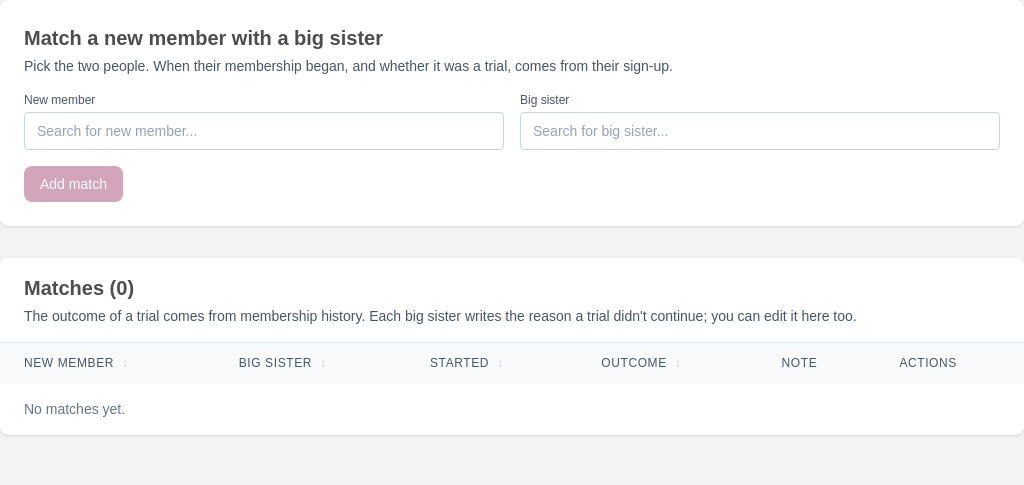
Test case: MatchesPanel › shows the error when the action refuses
Type "Ada" into the dropdown with placeholder "Search for big sister..." at {"x": 760, "y": 131}, box [520,112,1000,150]
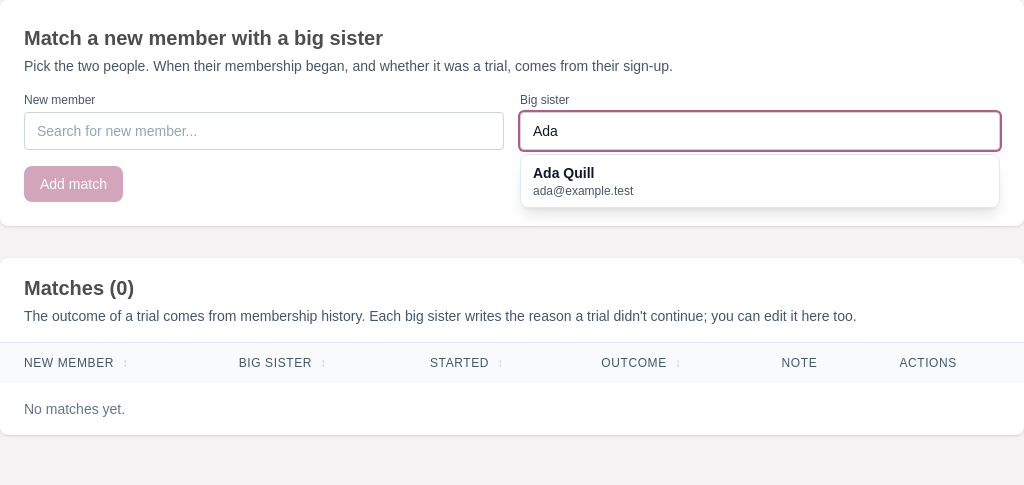
Click the text "Ada Quill" at {"x": 564, "y": 173}, box [533,165,594,181]
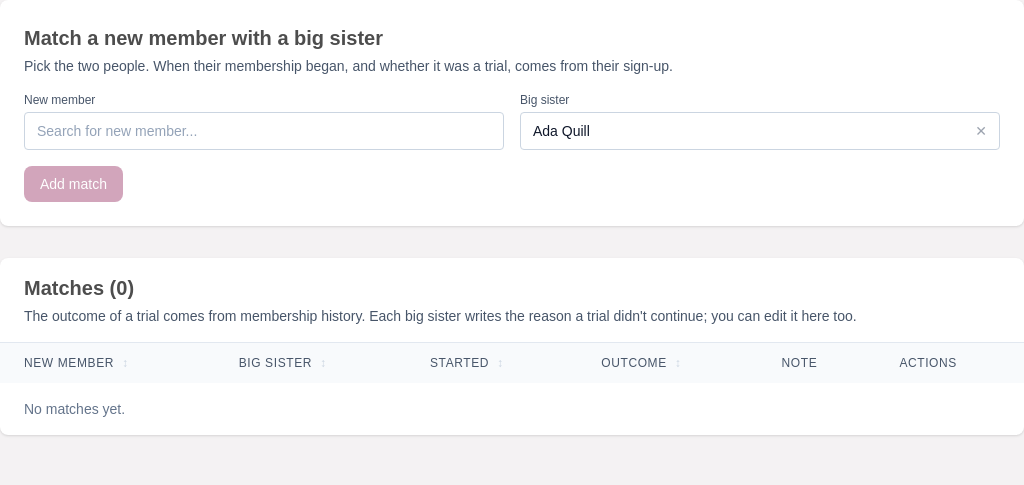
Type "Bea" into the dropdown with placeholder "Search for new member..." at {"x": 264, "y": 131}, box [24,112,504,150]
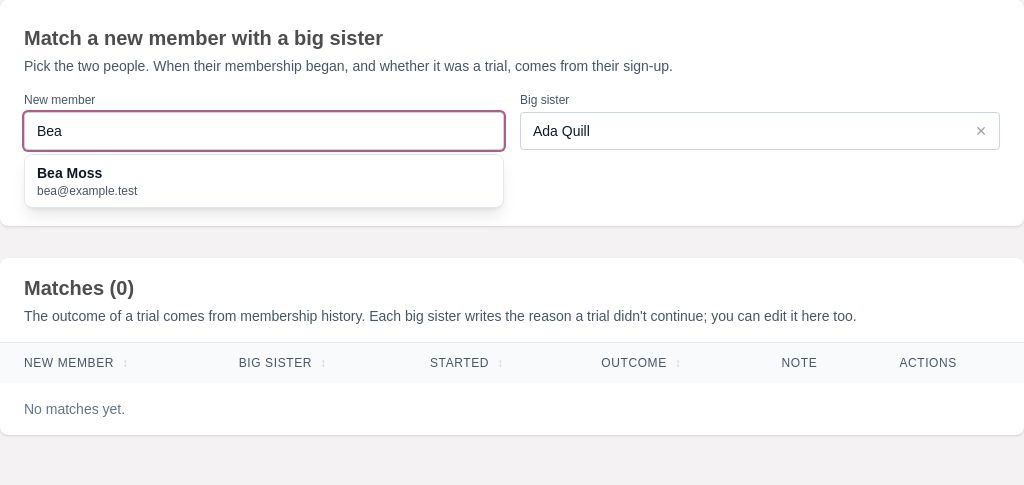
Click the text "Bea Moss" at {"x": 70, "y": 173}, box [37,165,102,181]
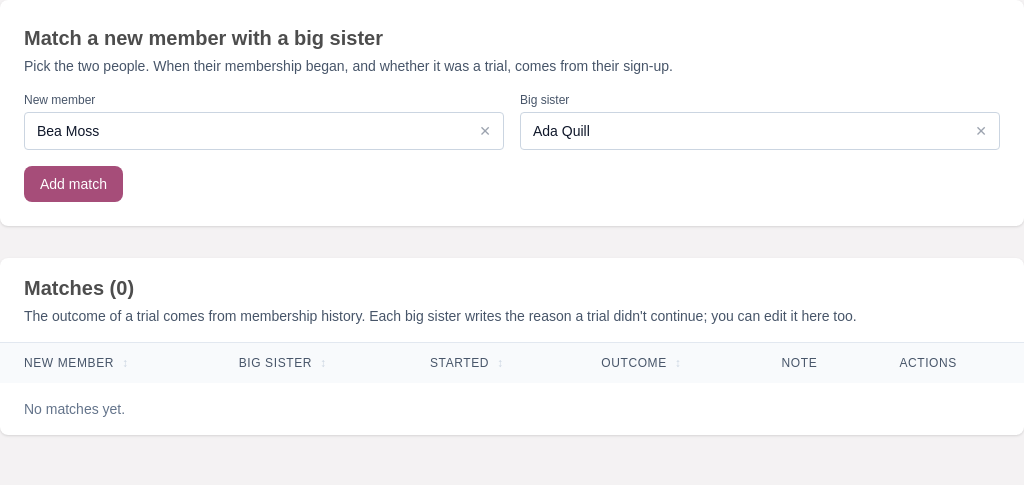
Click the button "Add match" at {"x": 73, "y": 184}, box [24,166,123,202]
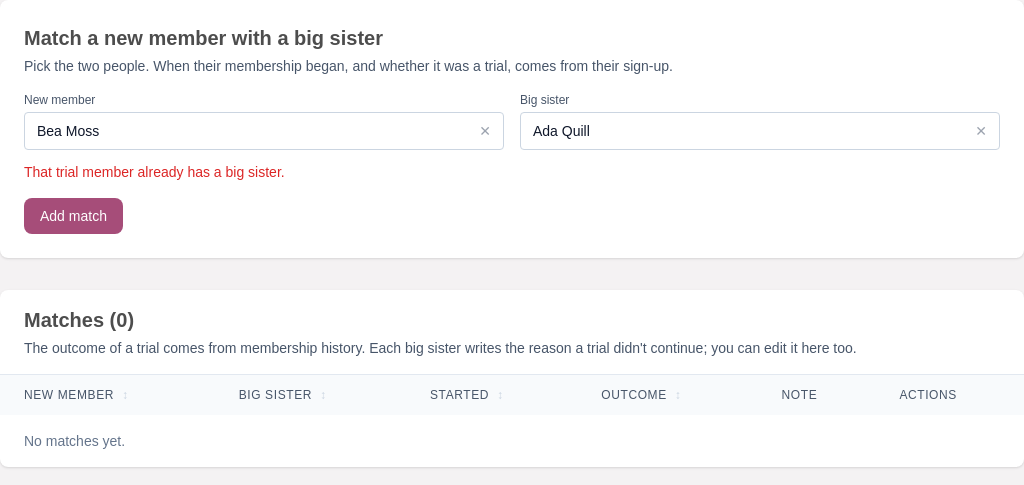
Expected: the text "That trial member already has a big sister." is shown, [24,164,285,180]
